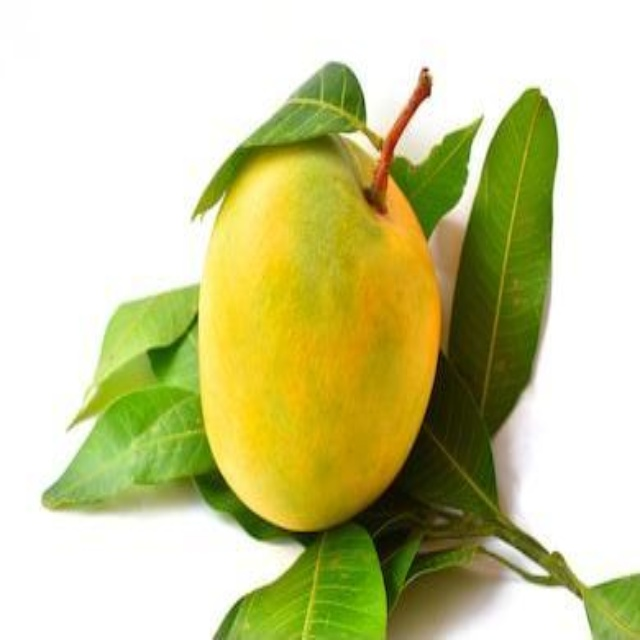mango: (202, 122, 430, 528)
